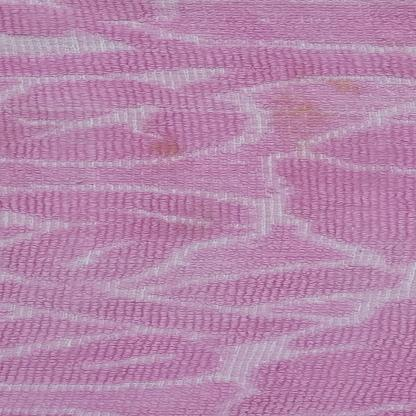spot: (269, 88, 327, 126), (136, 126, 188, 157), (295, 141, 328, 159), (324, 76, 361, 91)
